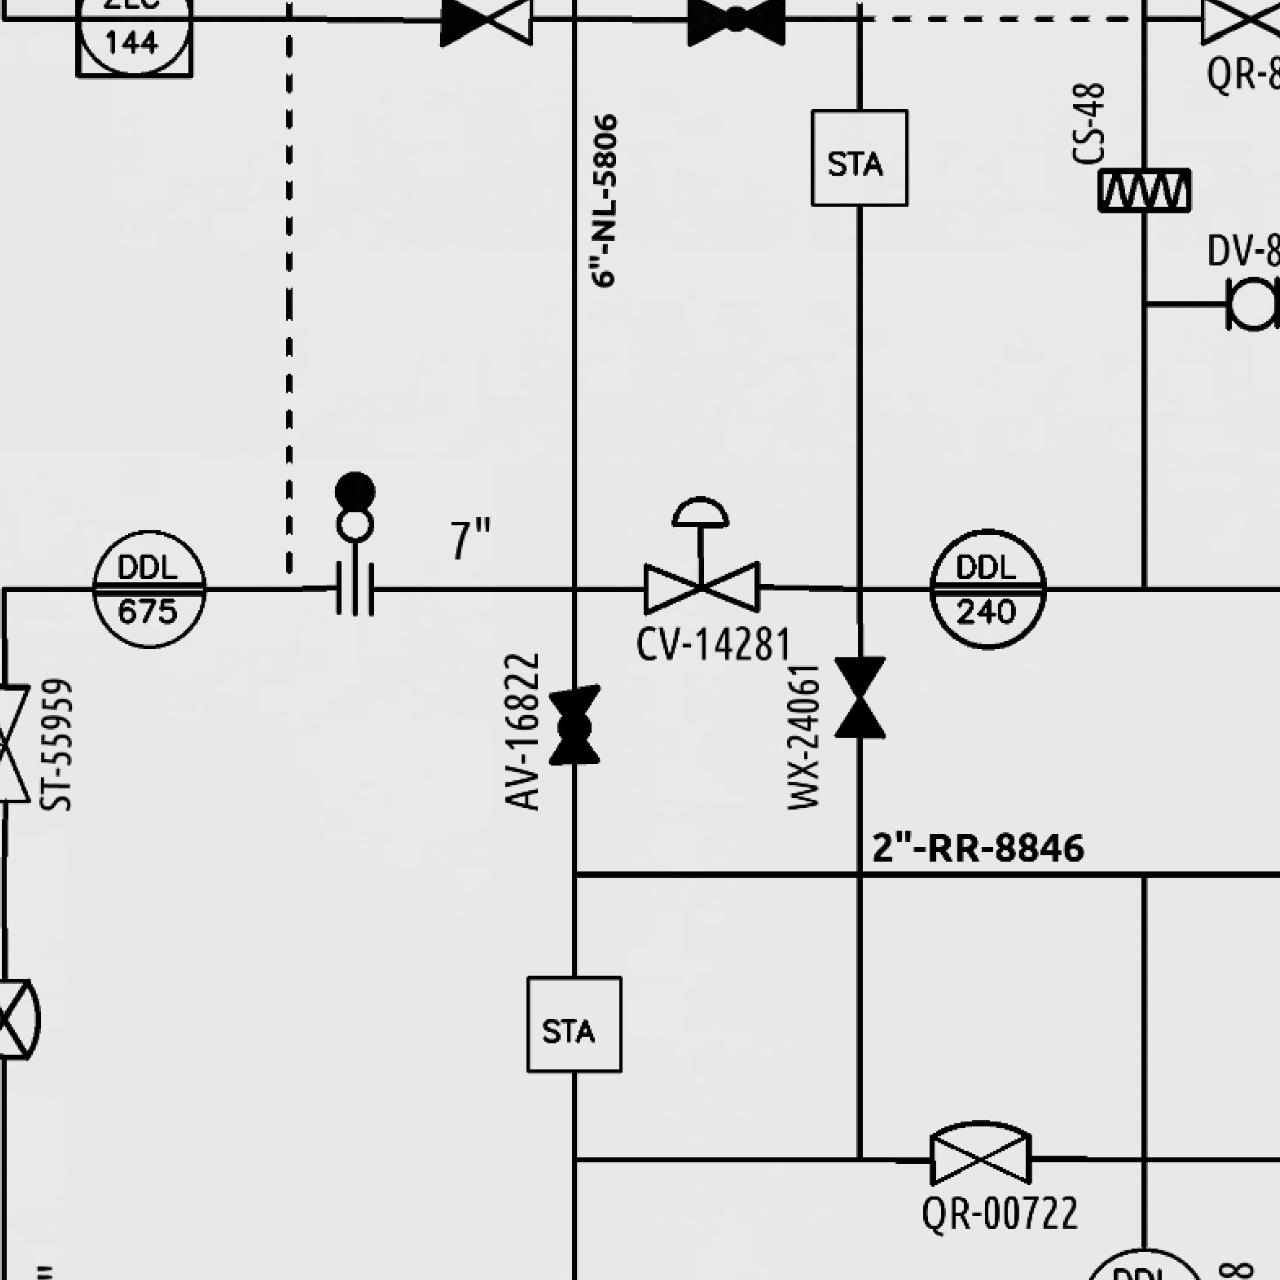Control-Panel: (922, 524, 1051, 653), (84, 524, 212, 653)
